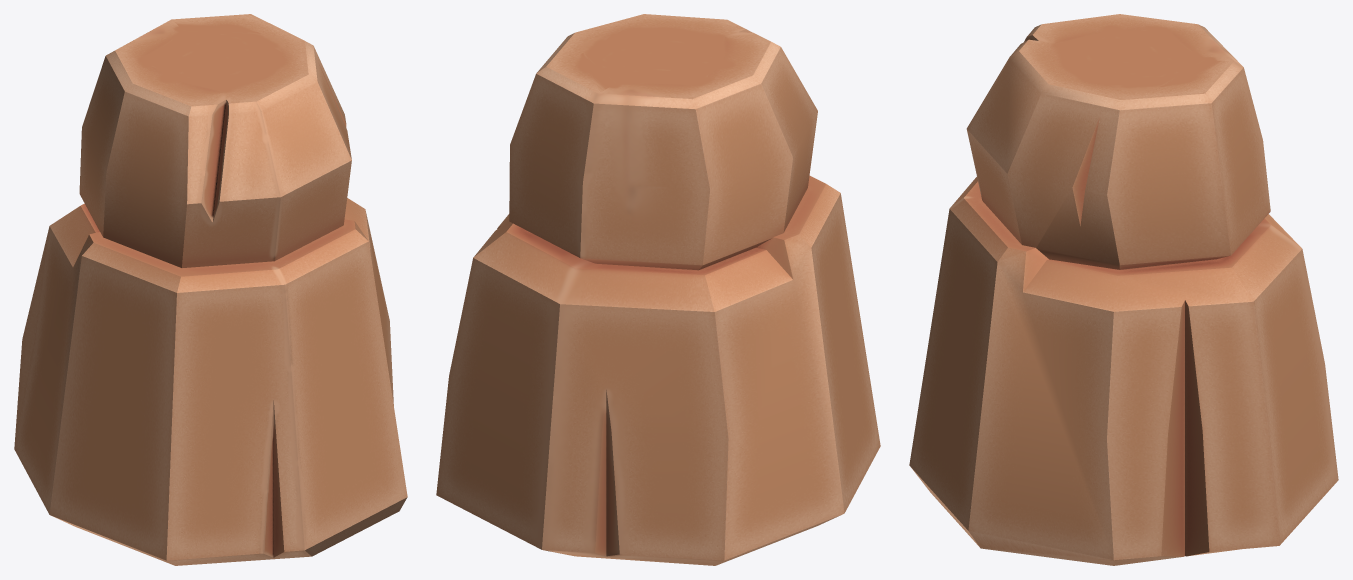
Rendered from desert_rock_14.glb.
3 renders of one model, left to right at view 1: azimuth 30°, elevation 25°; view 2: azimuth 150°, elevation 25°; view 3: azimuth 270°, elevation 25°, orthographic. The views are drawn at different scales.
Parts seen in each view (by area): view 1: Rock_14_Rock_14_0; view 2: Rock_14_Rock_14_0; view 3: Rock_14_Rock_14_0.
Boxes of the visible parts, x1,y1,x2,y2 form: Rock_14_Rock_14_0: [14, 14, 407, 565]; Rock_14_Rock_14_0: [436, 14, 880, 565]; Rock_14_Rock_14_0: [909, 14, 1338, 565].
Size of the model in its own units: 1.87 by 2.2 by 1.97.
1 material, 1 textured.
